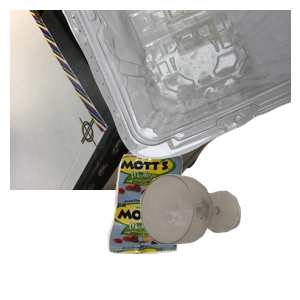cardboard: (10, 10, 238, 190)
glass: (138, 172, 300, 300)
plastic: (60, 10, 300, 162)
trash: (105, 152, 280, 300)
